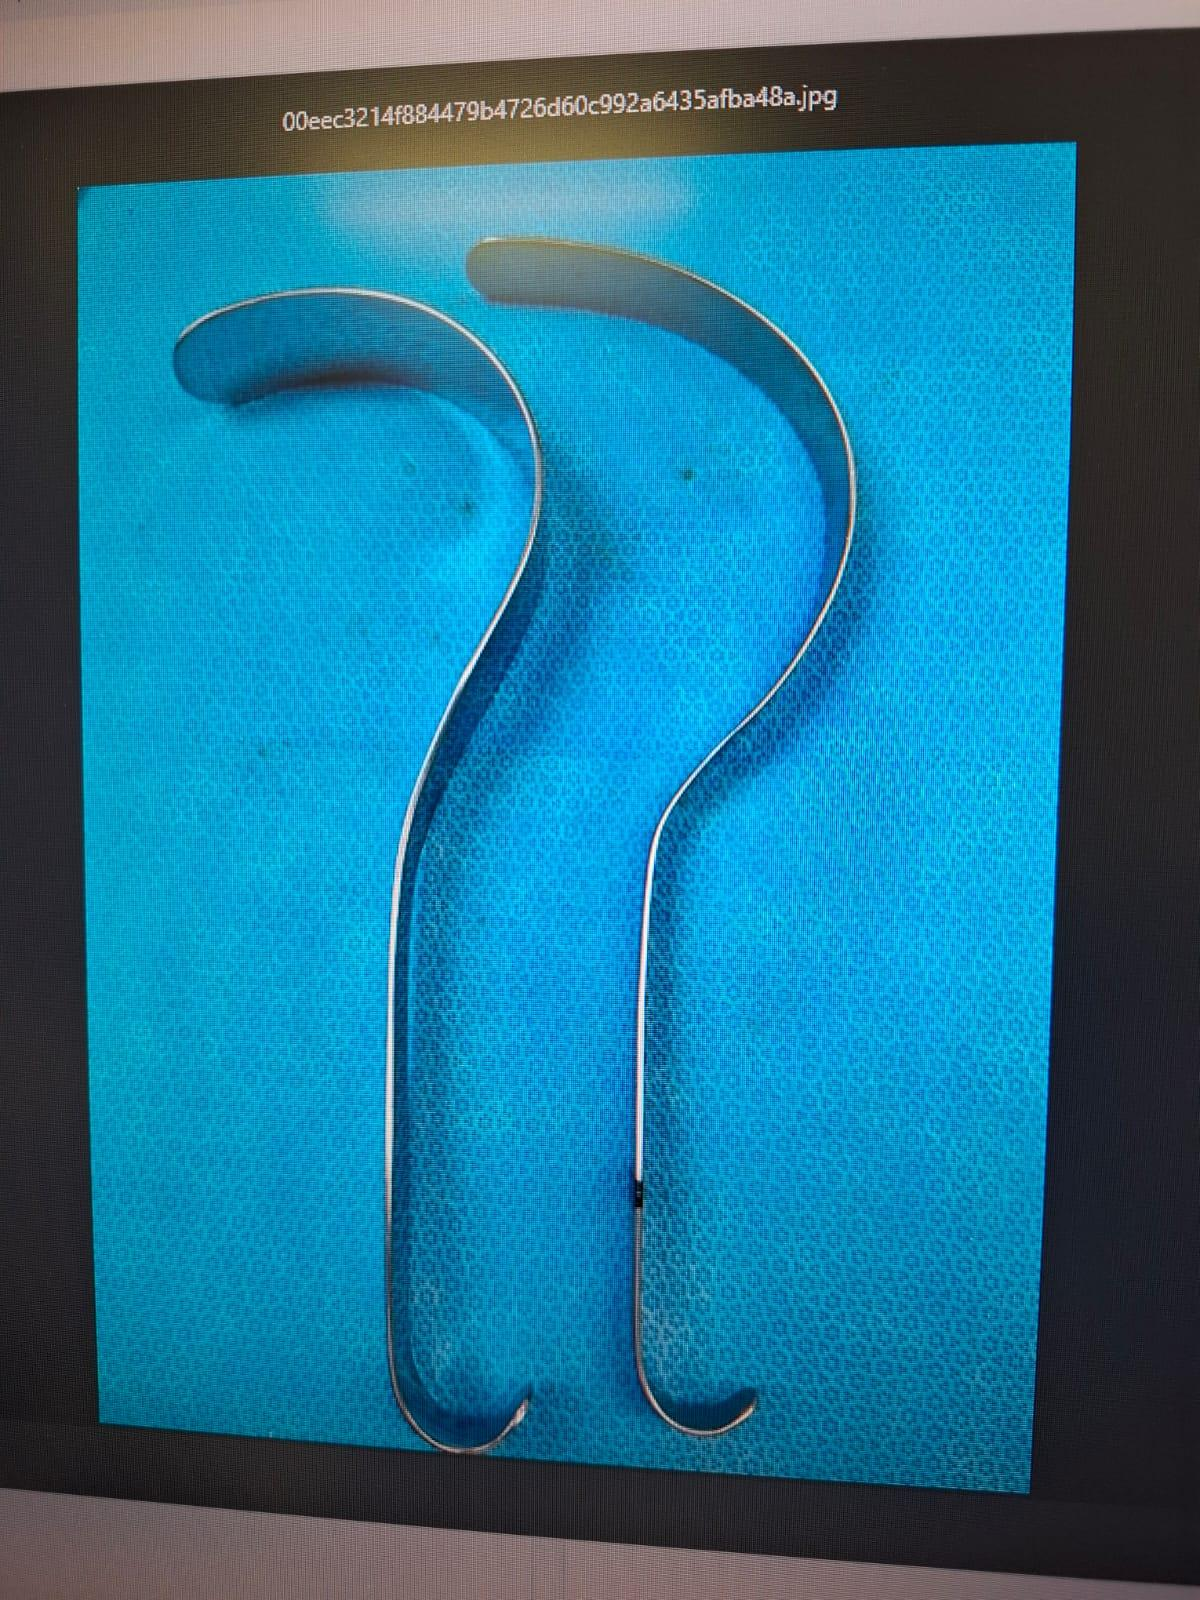Deaver Retractor: (455, 228, 887, 1455), (170, 275, 590, 1463)
